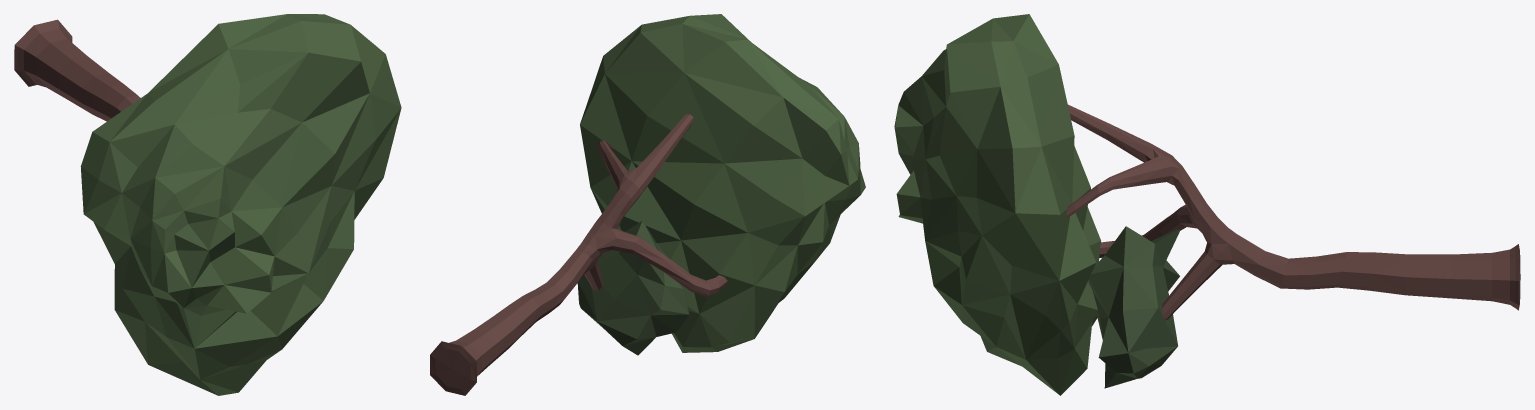
File: tree-deciduous-4-28-ft.obj
3 renders of one model, left to right at view 1: azimuth 30°, elevation 25°; view 2: azimuth 150°, elevation 25°; view 3: azimuth 270°, elevation 25°, orthographic. The views are drawn at different scales.
Visible parts, largest first — view 1: tree-deciduous-4-28-ft; view 2: tree-deciduous-4-28-ft; view 3: tree-deciduous-4-28-ft.
Boxes of the visible parts, <box> form: tree-deciduous-4-28-ft: <box>14,14,401,395</box>; tree-deciduous-4-28-ft: <box>430,14,865,395</box>; tree-deciduous-4-28-ft: <box>894,14,1520,395</box>.
Bounding box in the file's own units: 190 × 217 × 336.
